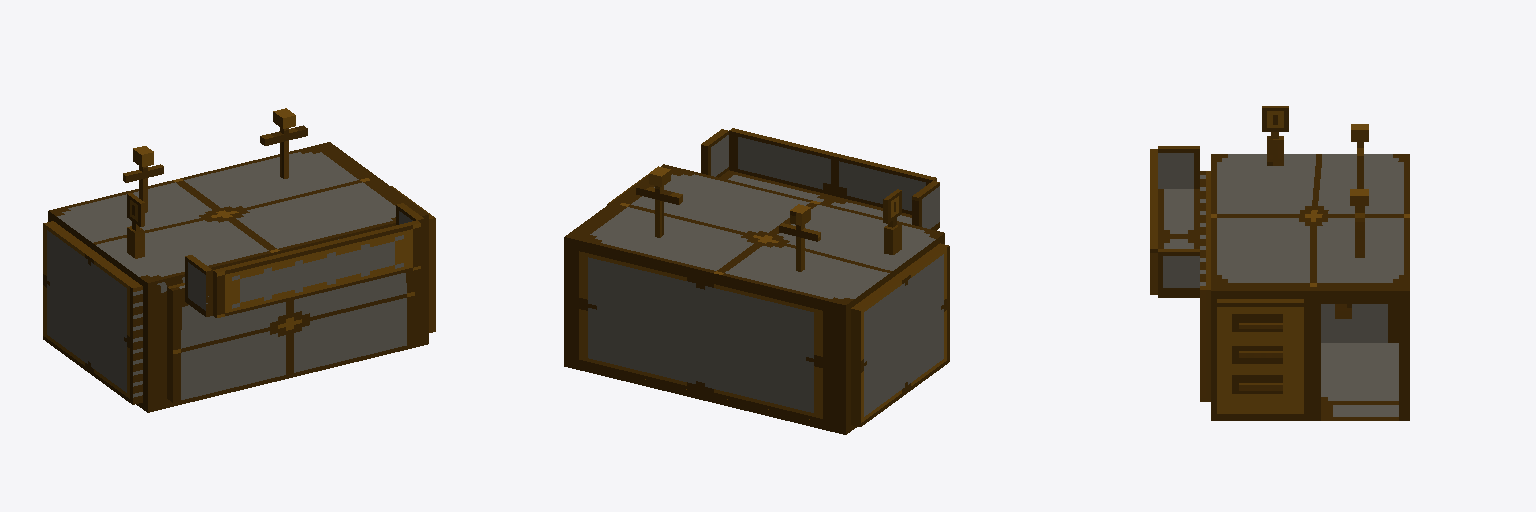
3 renders of one model, left to right at view 1: azimuth 30°, elevation 25°; view 2: azimuth 150°, elevation 25°; view 3: azimuth 270°, elevation 25°, orthographic.
Parts seen in each view (by area): view 1: barraks_Cube; view 2: barraks_Cube; view 3: barraks_Cube.
Boxes of the visible parts, x1,y1,x2,y2 form: barraks_Cube: [43, 108, 435, 412]; barraks_Cube: [564, 128, 949, 434]; barraks_Cube: [1150, 106, 1409, 420].
Bounding box in the file's own units: 13.75 × 8.34 × 10.12.
Materials: 1 (1 with a texture image).